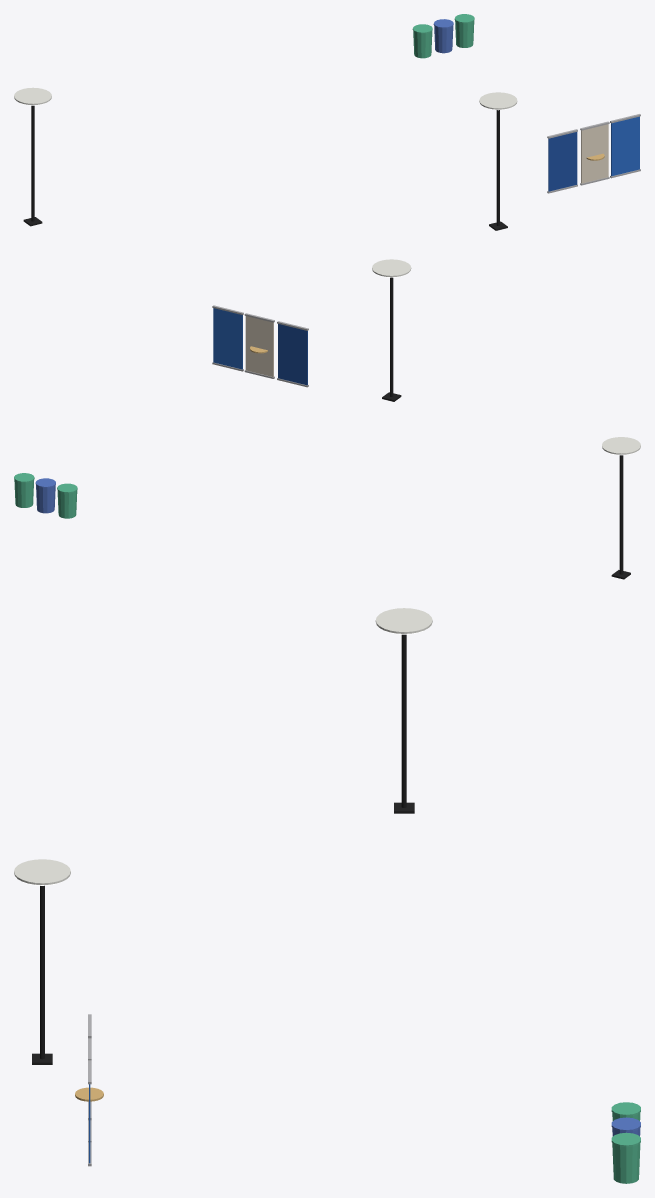
The model's file is Pizza_Point_Site.glb.
The picture shows the model from 3 angles, top to bottom: view 1: azimuth 30°, elevation 25°; view 2: azimuth 150°, elevation 25°; view 3: azimuth 270°, elevation 25°; orthographic projection. The views are drawn at different scales.
Visible parts, largest first — view 1: DMP_Props; view 2: DMP_Props; view 3: DMP_Props.
Part boxes in pixels (bbox=[...]): DMP_Props: bbox=[14, 14, 640, 230]; DMP_Props: bbox=[14, 259, 640, 579]; DMP_Props: bbox=[14, 608, 640, 1183].
Size of what is drawn, in the model's own units: 35.48 by 8.08 by 24.27.
